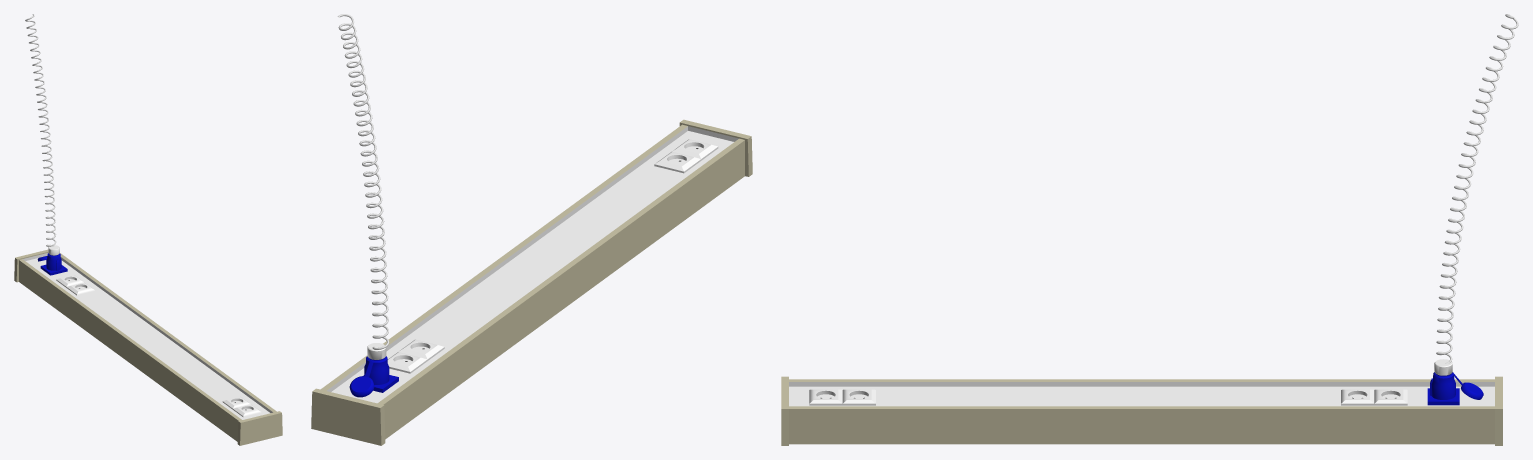
File: Elec_socketblyat.fbx
3 renders of one model, left to right at view 1: azimuth 30°, elevation 25°; view 2: azimuth 150°, elevation 25°; view 3: azimuth 270°, elevation 25°, orthographic. The views are drawn at different scales.
Parts seen in each view (by area): view 1: Cylinder.001, Circle; view 2: Cylinder.001, Circle; view 3: Cylinder.001, Circle.
Boxes of the visible parts, bbox=[...] form: Cylinder.001: bbox=[14, 245, 282, 445]; Circle: bbox=[25, 14, 56, 246]; Cylinder.001: bbox=[311, 119, 752, 445]; Circle: bbox=[337, 14, 389, 349]; Cylinder.001: bbox=[781, 359, 1502, 445]; Circle: bbox=[1436, 14, 1518, 363].
Size of the model in its own units: 223 by 1293 by 2090.
